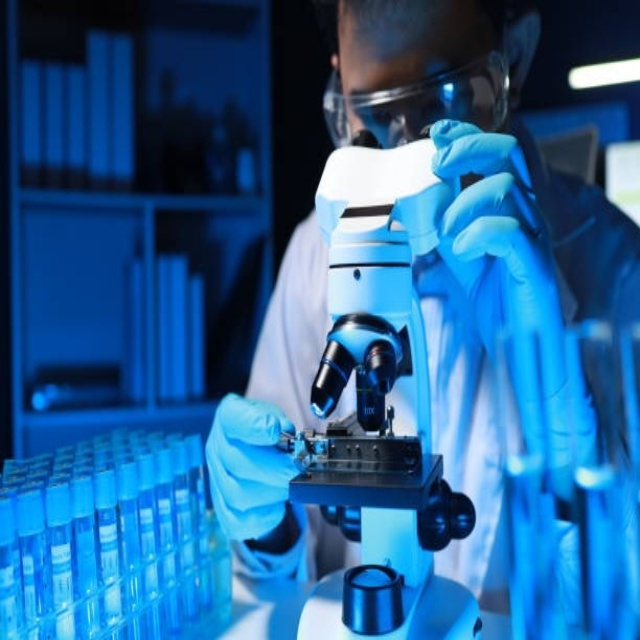Gafas: (323, 46, 509, 152)
Guantes: (388, 116, 544, 311), (205, 391, 307, 545)
